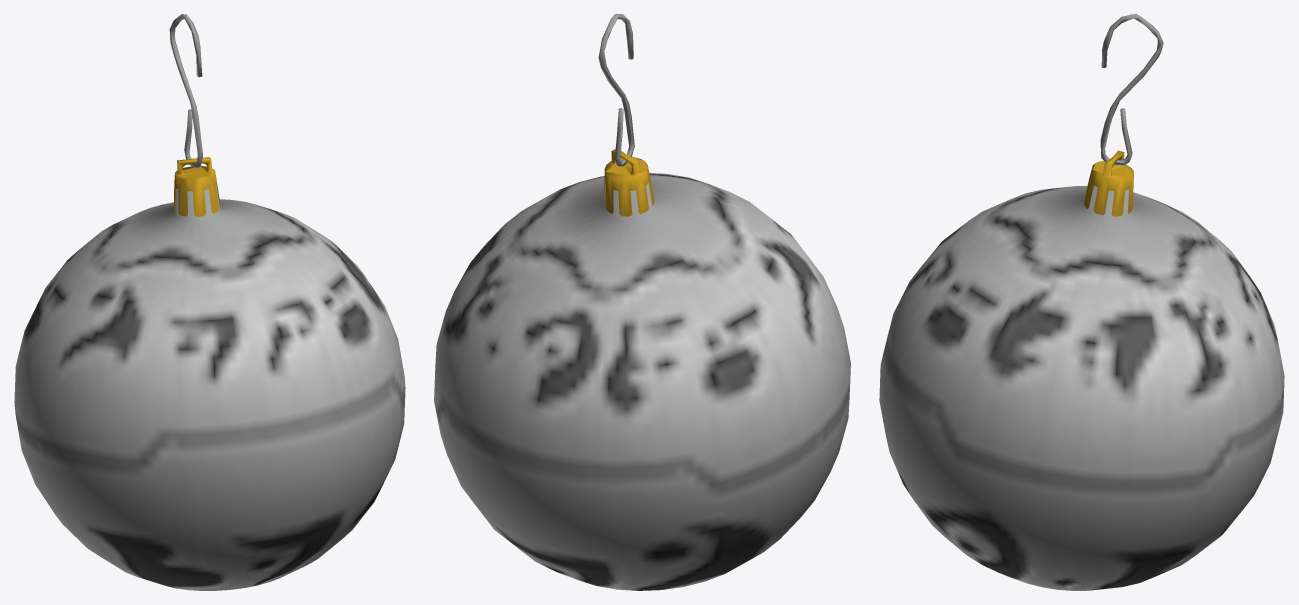
Rendered from money-lod0.glb.
The picture shows the model from 3 angles, left to right: view 1: azimuth 30°, elevation 25°; view 2: azimuth 150°, elevation 25°; view 3: azimuth 270°, elevation 25°; orthographic projection. The views are drawn at different scales.
Parts seen in each view (by area): view 1: Sphere, Object_3, Object_4; view 2: Sphere, Object_3, Object_4; view 3: Sphere, Object_3, Object_4.
Boxes of the visible parts, x1,y1,x2,y2 form: Sphere: (14, 185, 405, 590); Object_3: (173, 157, 220, 216); Object_4: (169, 14, 202, 168); Sphere: (434, 172, 850, 590); Object_3: (603, 149, 654, 216); Object_4: (598, 14, 634, 166); Sphere: (879, 185, 1284, 590); Object_3: (1084, 150, 1133, 216); Object_4: (1100, 14, 1163, 165).
Bounding box in the file's own units: 0.8844 × 1.34 × 0.8824.
Materials: 3 (1 with a texture image).
